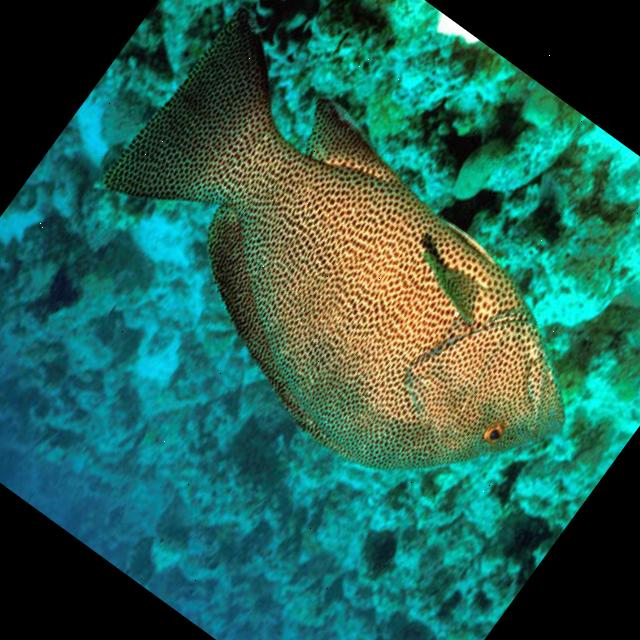ikan: (44, 0, 640, 558)
